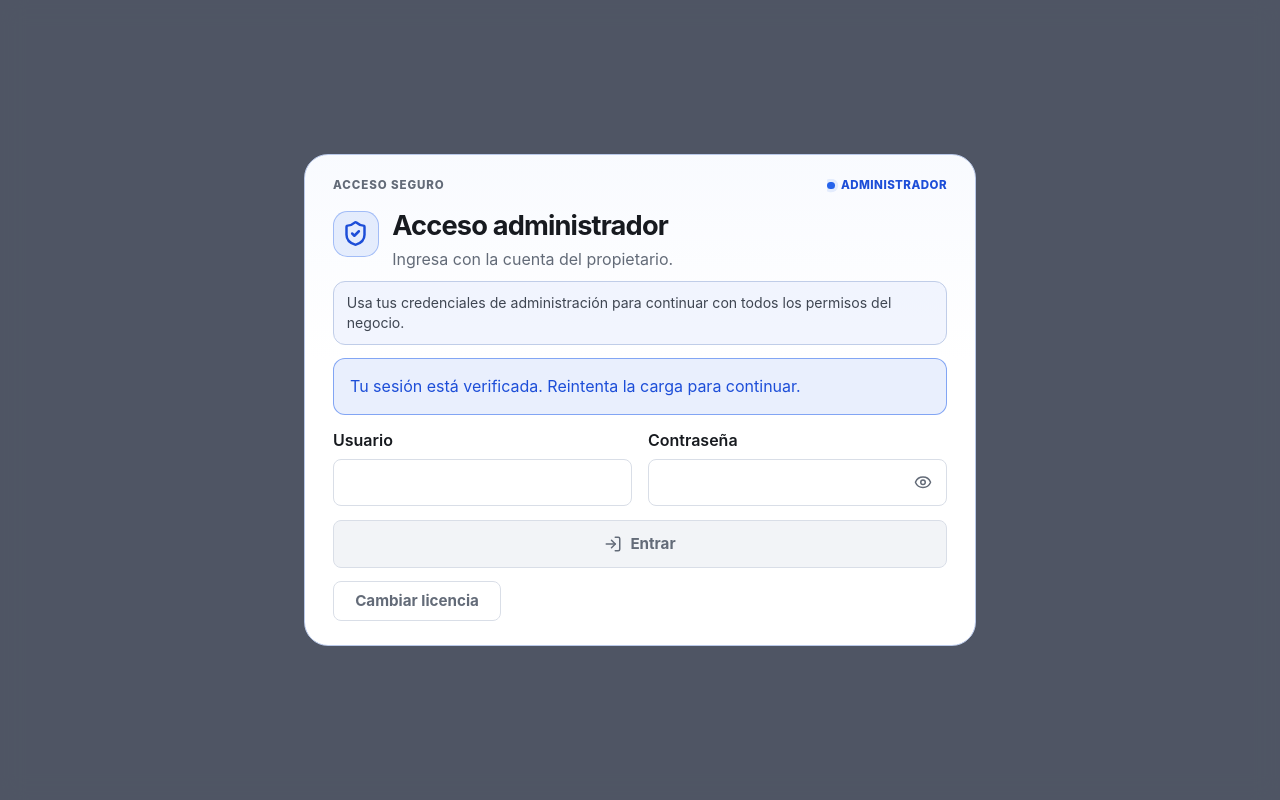
Test case: Admin preparation recovery UI › offers an accessible focused preparation retry without asking for credentials again
In the field labelled "Usuario": x=482, y=482 [333,459,632,506], type "owner"
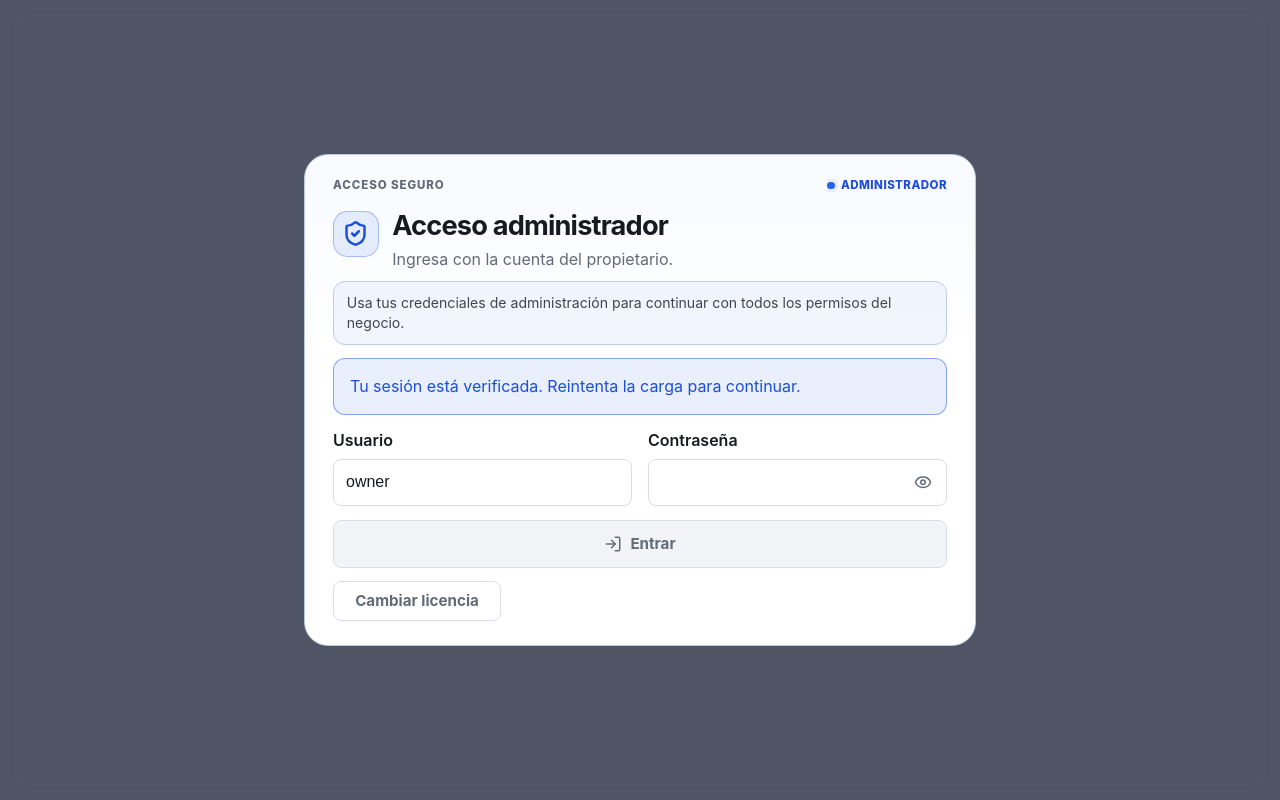
In the password field labelled "Contraseña": x=798, y=482 [648,459,947,506], type "fixture-only"
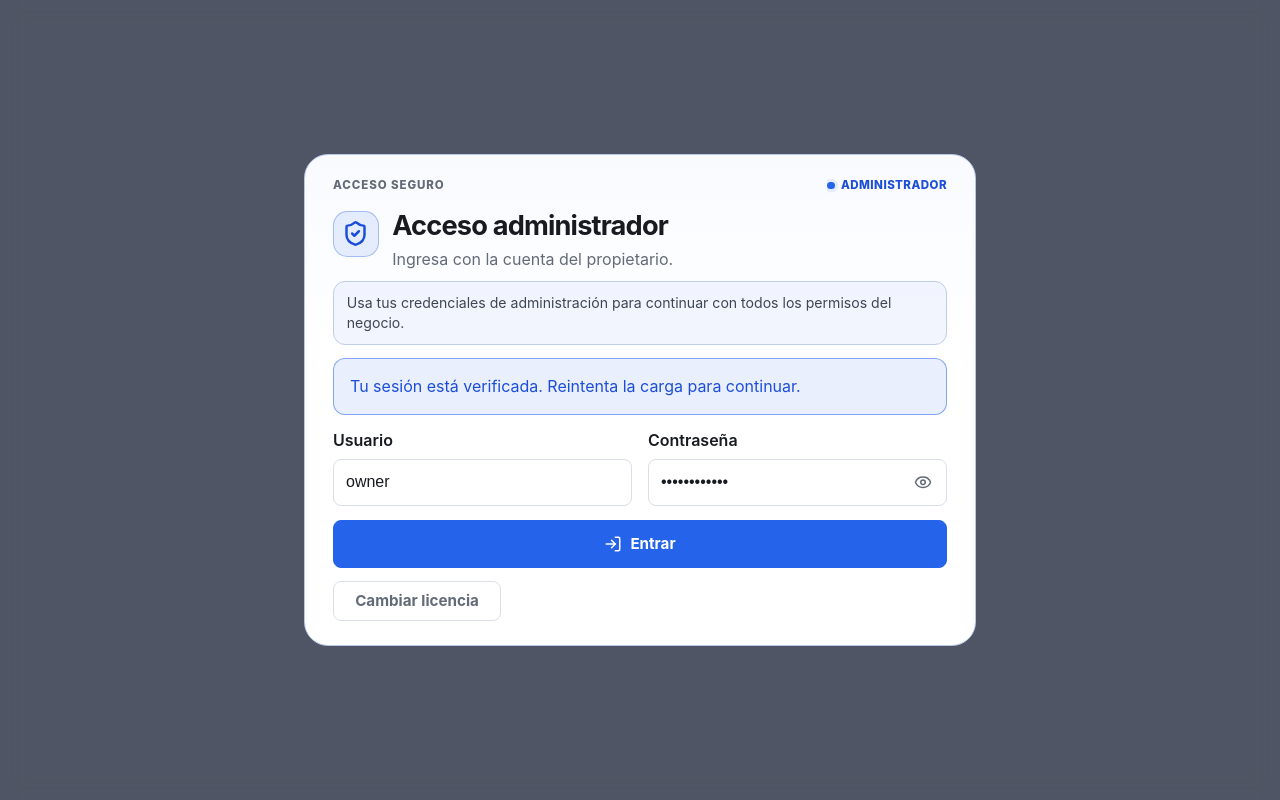
Click the button "Entrar": x=640, y=544 [333,520,947,568]
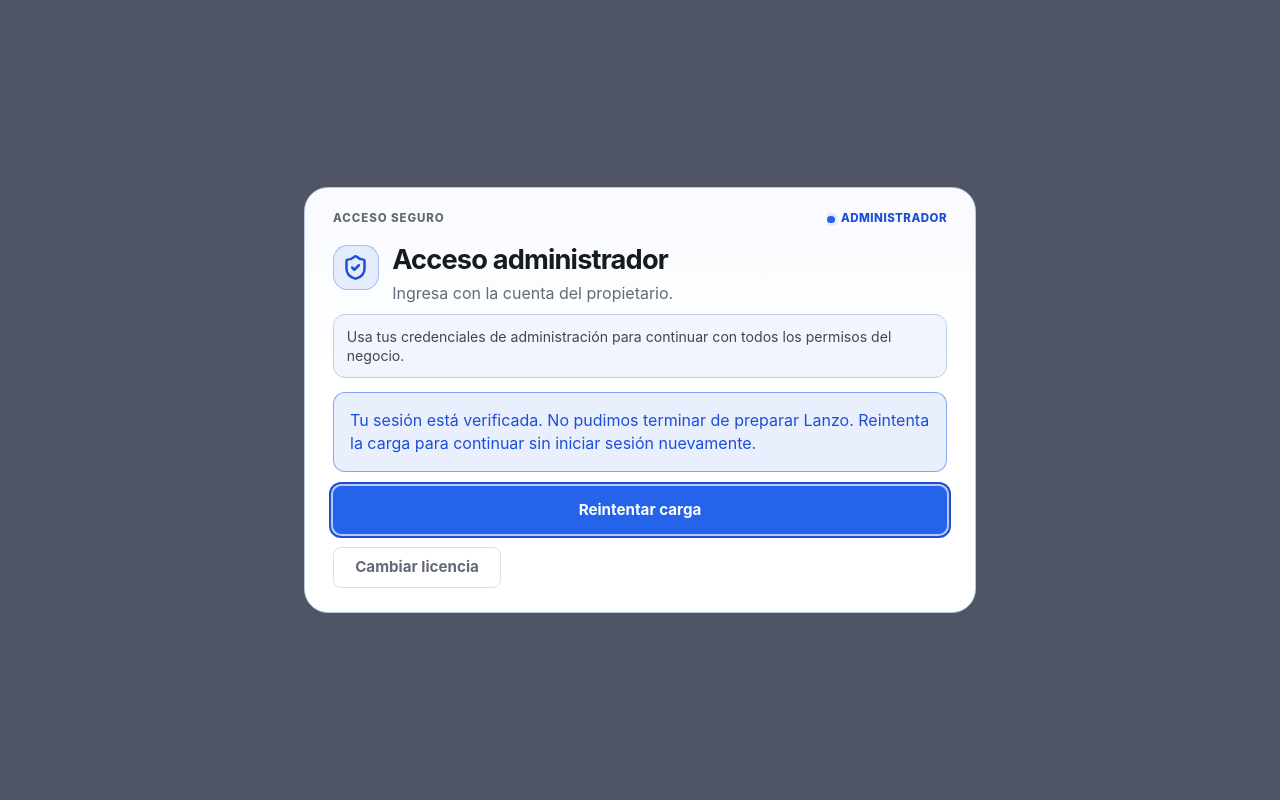
Expected: the number of messages is 1, [333,392,947,472]
Now the button "Reintentar carga" is enabled, box [333,486,947,534]
Now the label labelled "Contraseña" is gone
